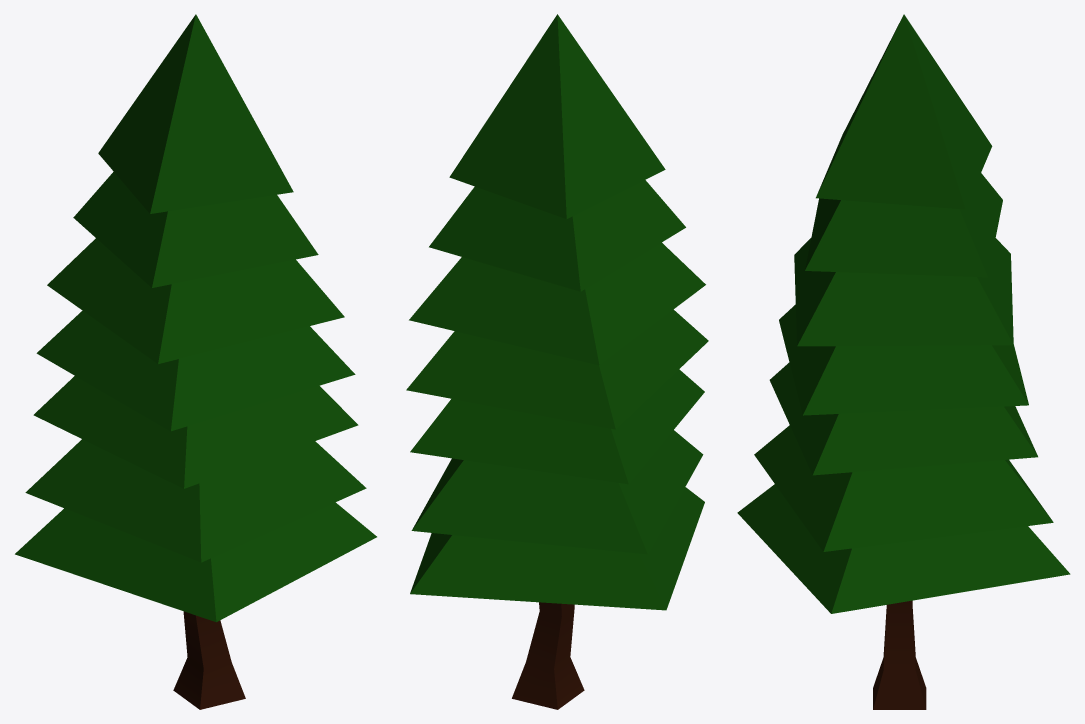
The model's file is tree_2.FBX.
3 views of the same model, side by side, from view 1: azimuth 30°, elevation 25°; view 2: azimuth 150°, elevation 25°; view 3: azimuth 270°, elevation 25° (orthographic).
Parts seen in each view (by area): view 1: tree_2; view 2: tree_2; view 3: tree_2.
Boxes of the visible parts, x1=… form: tree_2: x1=15, y1=14, x2=376, y2=709; tree_2: x1=406, y1=14, x2=708, y2=709; tree_2: x1=737, y1=14, x2=1070, y2=709.
Size of the model in its own units: 47.78 by 107 by 47.78.
